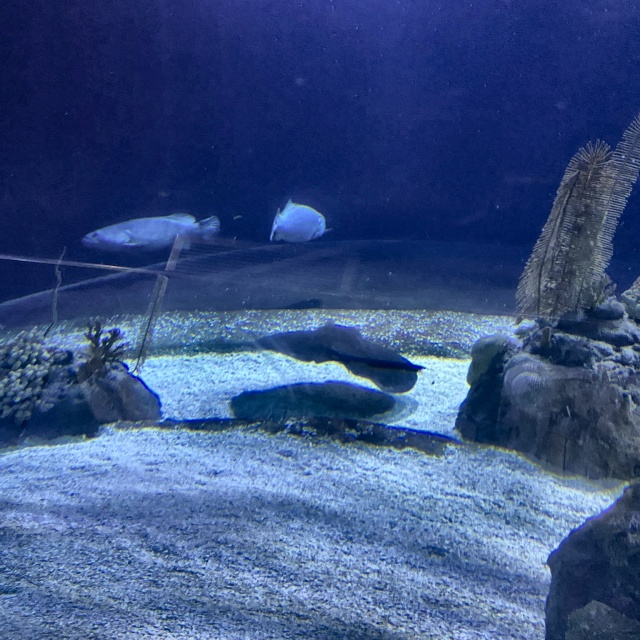fish: (80, 214, 218, 249), (270, 201, 326, 242)
stingray: (255, 322, 418, 394)
